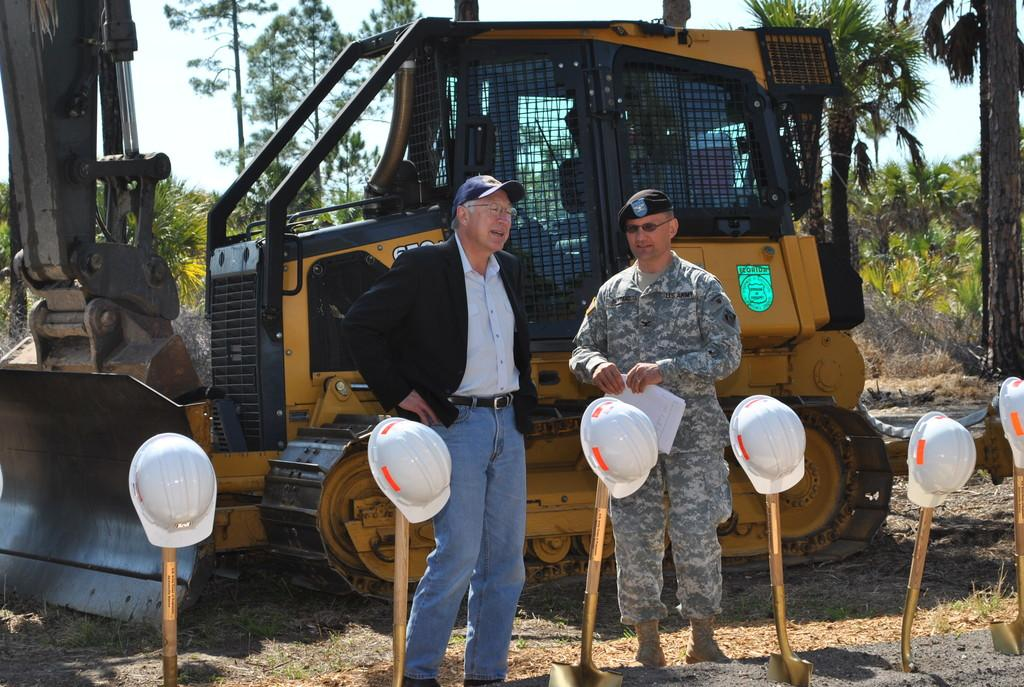Hat: (450, 171, 524, 216)
